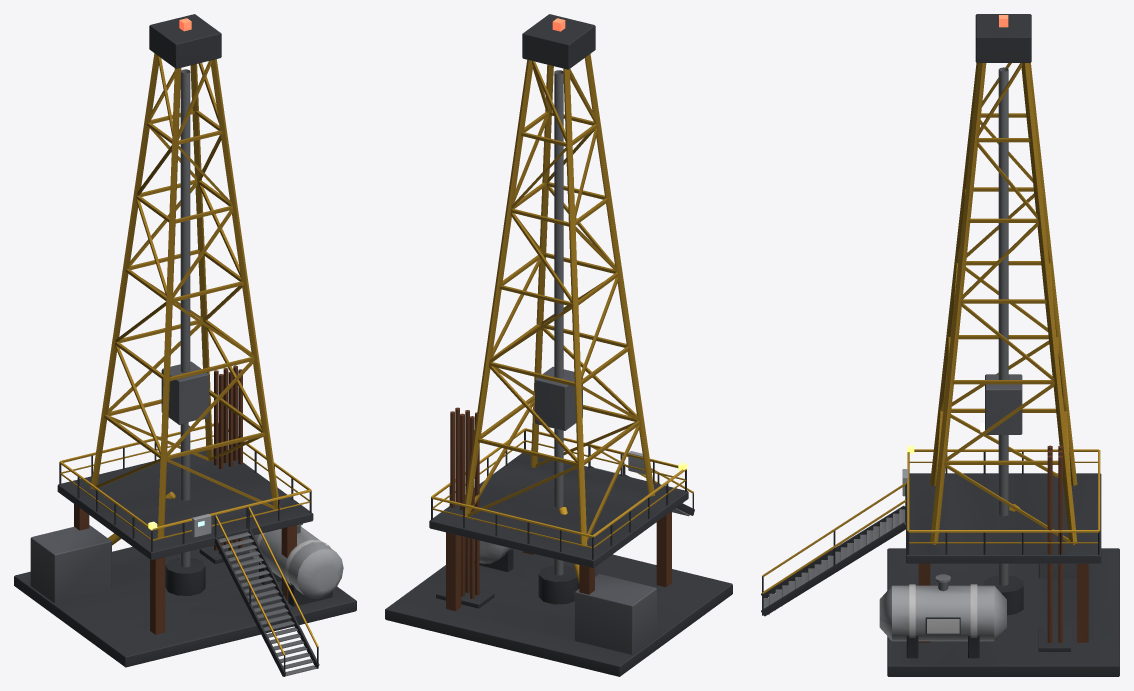
The model's file is Bohrturm.glb.
The picture shows the model from 3 angles, left to right: view 1: azimuth 30°, elevation 25°; view 2: azimuth 150°, elevation 25°; view 3: azimuth 270°, elevation 25°; orthographic projection. The views are drawn at different scales.
Parts seen in each view (by area): view 1: Bohrturm; view 2: Bohrturm; view 3: Bohrturm.
Part boxes in pixels (x1=…): Bohrturm: x1=14, y1=14, x2=356, y2=676; Bohrturm: x1=385, y1=14, x2=732, y2=676; Bohrturm: x1=761, y1=14, x2=1119, y2=676.
Size of the model in its own units: 12 by 28.55 by 15.44.
